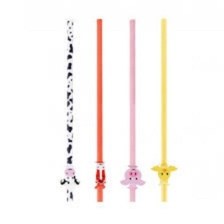drinking_straw: (149, 14, 180, 208), (116, 15, 146, 207), (56, 14, 82, 206), (87, 14, 110, 207)
